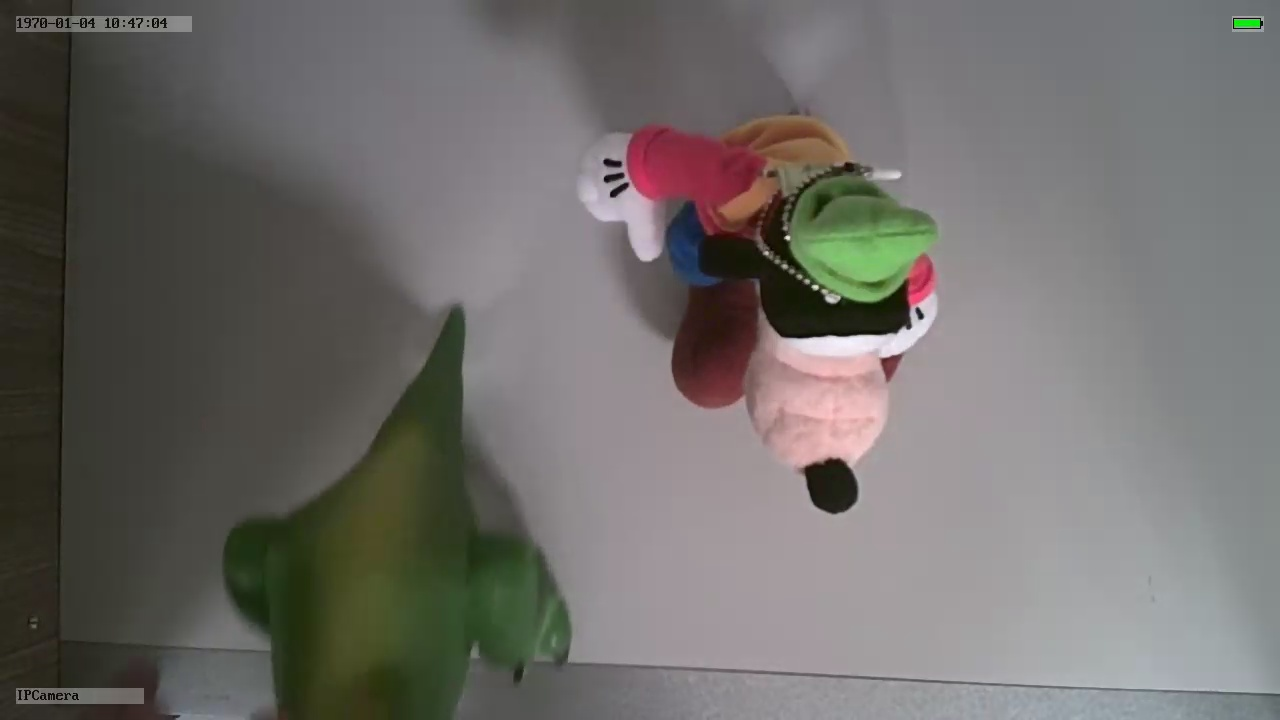goofy: (570, 112, 944, 518)
